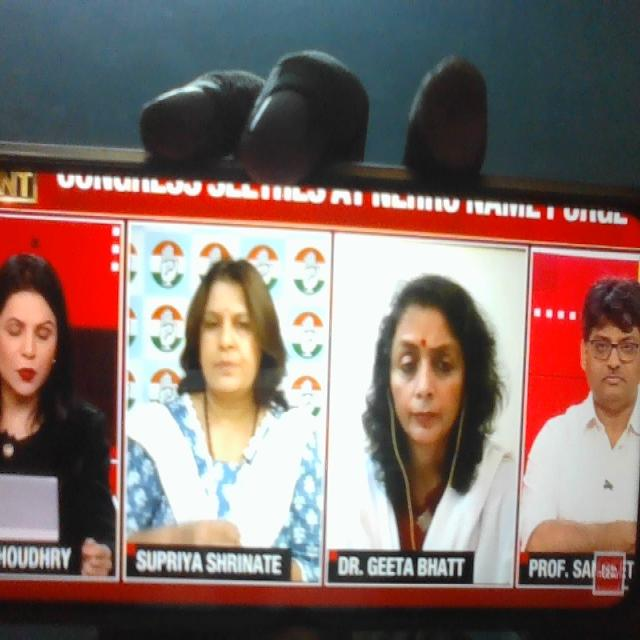fake: (373, 263, 484, 473)
